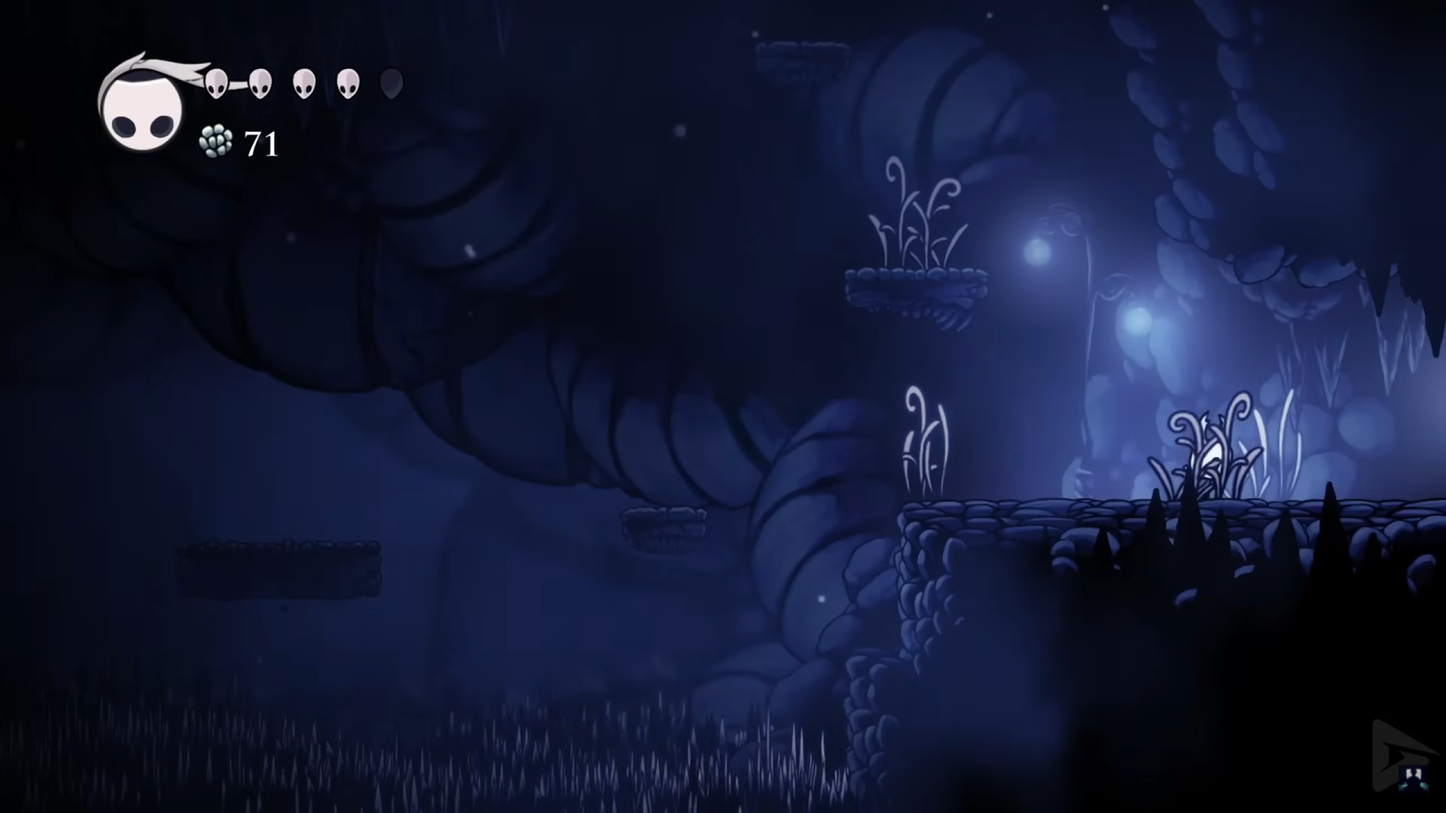HK: (1180, 404, 1235, 499)
